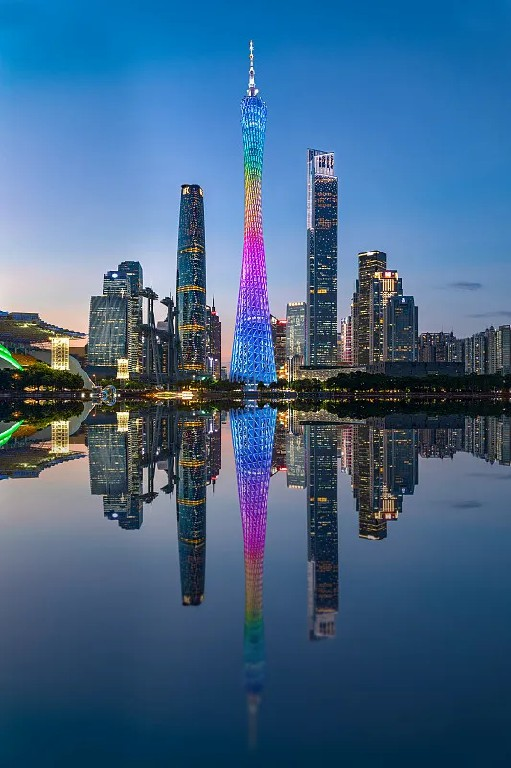Canton: (228, 35, 277, 385)
